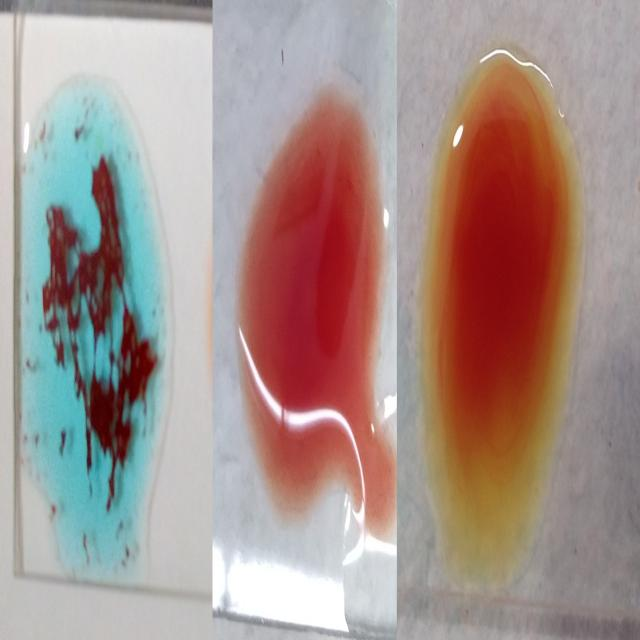A: (22, 99, 160, 545)
